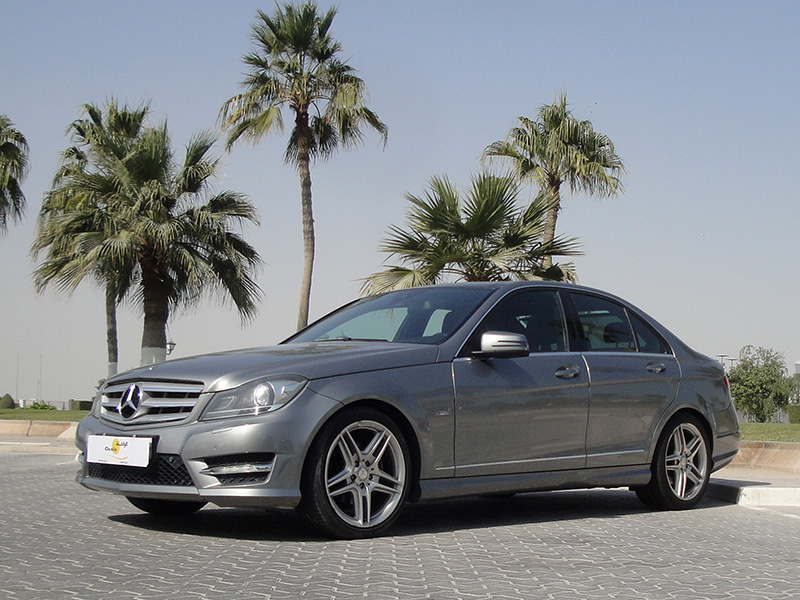other: (76, 268, 743, 520)
